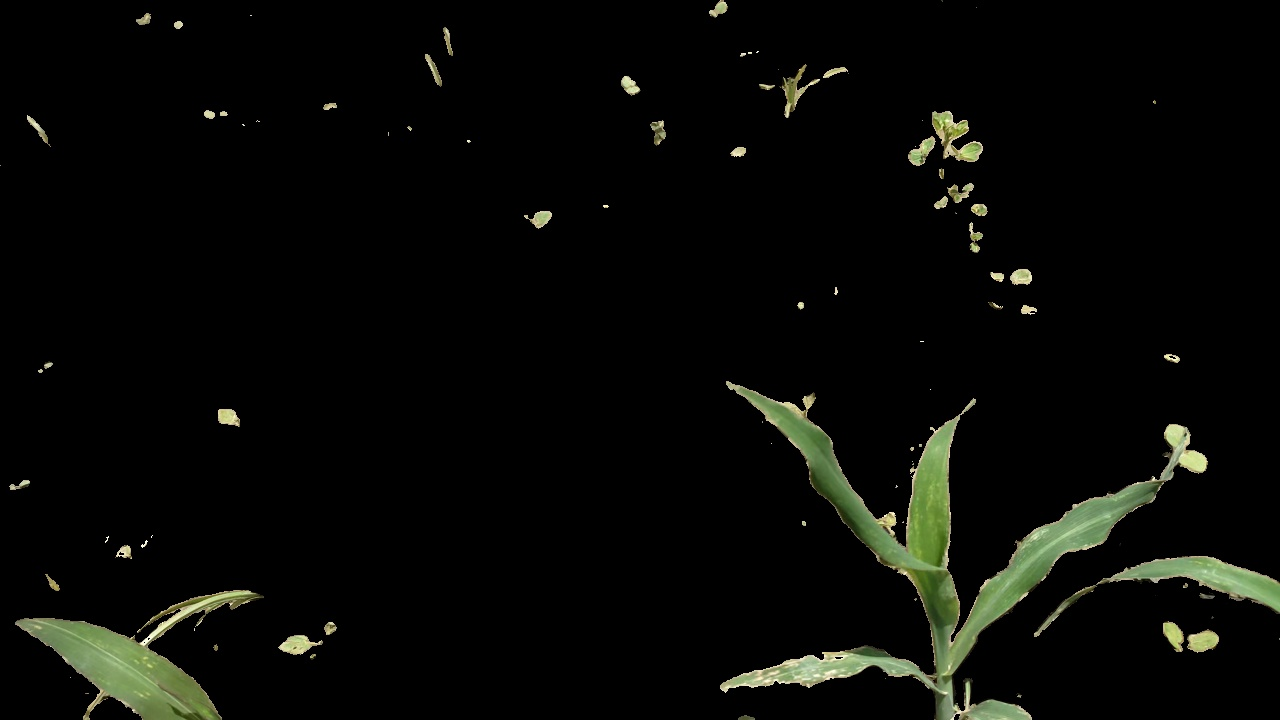crop: (723, 369, 1173, 720), (1, 588, 262, 720)
weed: (739, 54, 856, 118), (908, 102, 988, 177), (281, 605, 351, 661), (1156, 608, 1228, 657), (1171, 421, 1219, 477), (212, 392, 258, 441), (983, 259, 1036, 292), (516, 207, 571, 231), (935, 191, 983, 215)
